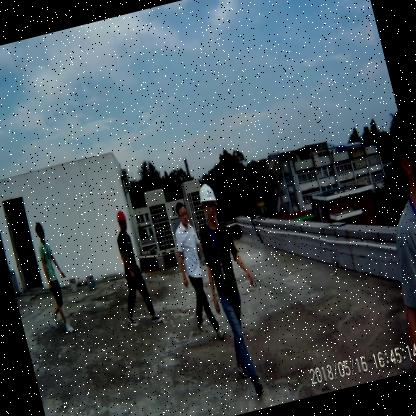capacete: (196, 180, 223, 223), (114, 207, 130, 235)
sem_capacete: (382, 106, 415, 208), (174, 200, 190, 228), (34, 221, 46, 241)
sem_colete_refletivo: (375, 196, 415, 371), (194, 215, 244, 295), (170, 220, 208, 284), (36, 236, 61, 284), (114, 230, 140, 275)
